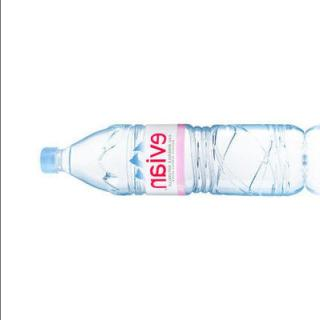Anorganik: (34, 116, 314, 209)
